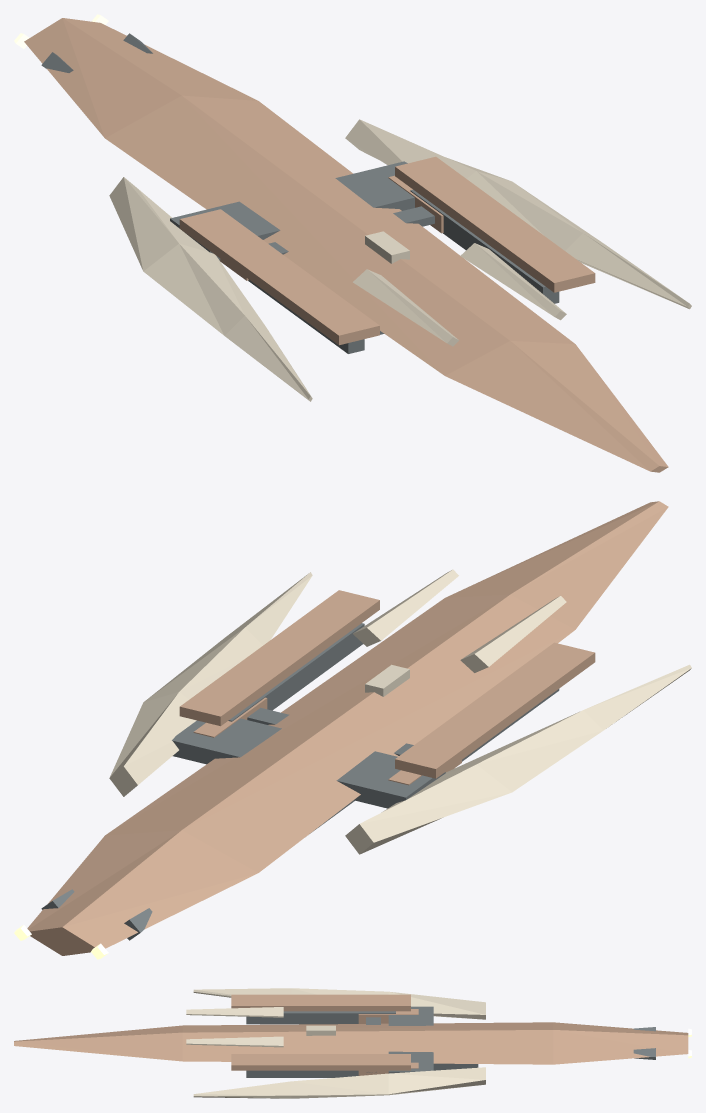
The picture shows the model from 3 angles, top to bottom: view 1: azimuth 30°, elevation 25°; view 2: azimuth 150°, elevation 25°; view 3: azimuth 270°, elevation 25°; orthographic projection. The views are drawn at different scales.
Size of the model in its own units: 7.41 by 1.51 by 20.09.
